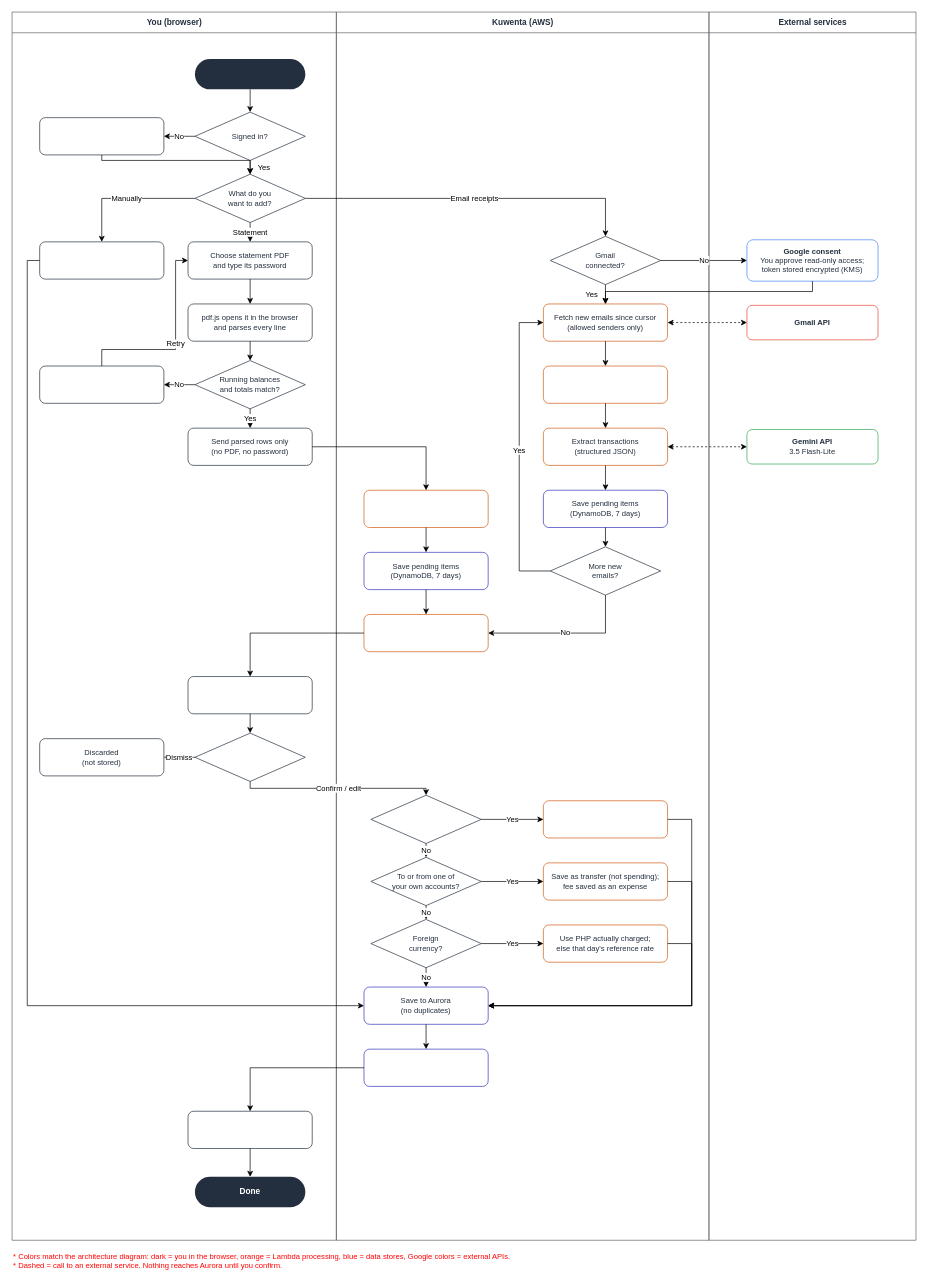
Image size: 928x1287. Some labels were removed from this diagram. The shapes that lost their labels are listed below. From the top down, each one's centre as x and y in pixels, then its label:
At point 250,74: "Open Kuwenta".
At point 101,136: "Sign in with Cognito managed login".
At point 101,260: "Enter a transaction manually".
At point 101,384: "Show the line that breaks; fix it or upload again".
At point 605,384: "Redact account, card and mobile numbers".
At point 425,509: "Suggest categories (Gemini, merchant names only)".
At point 425,633: "Flag duplicates, own-account transfers, foreign currency".
At point 249,695: "Review each pending item (hints shown)".
At point 249,756: "Confirm, edit or dismiss?".
At point 425,819: "Same payment as a saved transaction?".
At point 605,819: "Merge: keep merchant from email, reference from statement".
At point 425,1067: "Clear pending items; advance Gmail cursor".
At point 249,1130: "Dashboard: spending by month, category and account".
